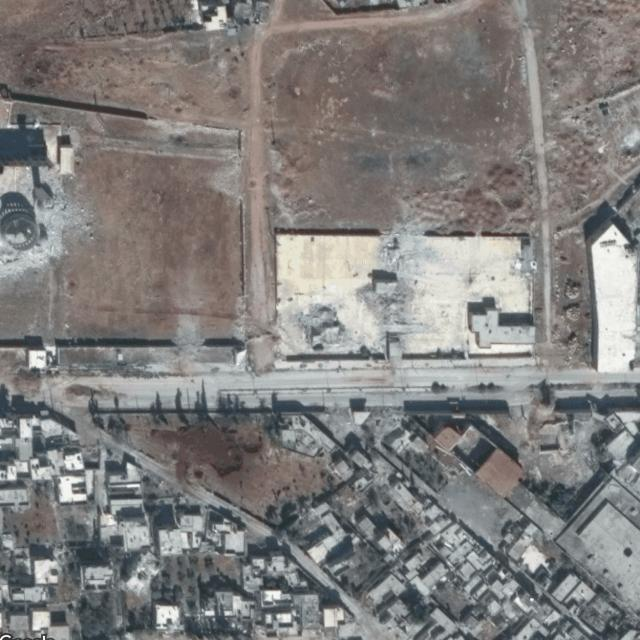damaged_building: (277, 223, 436, 360)
